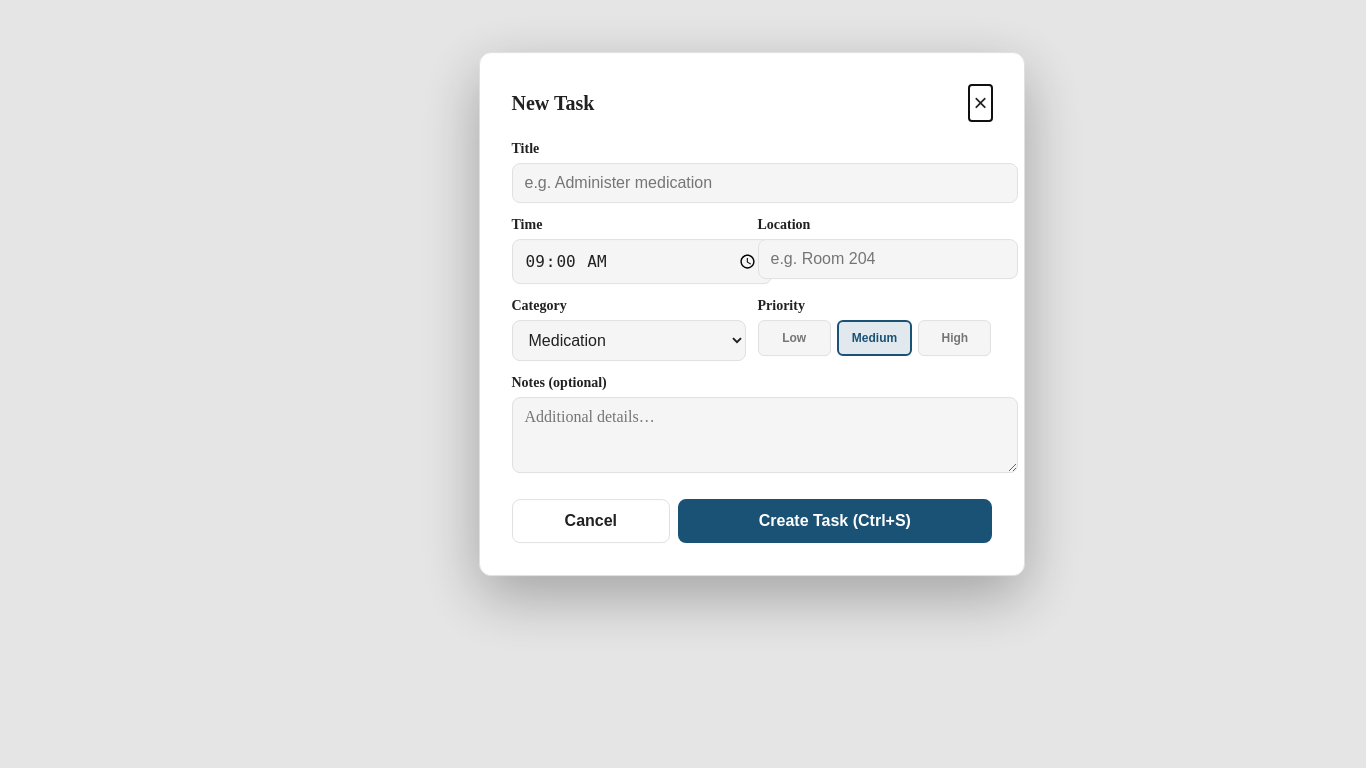
Test: NewTaskDialog › shows error when location is empty on submit
In the field labelled "Title": coordinates (764, 183) [512,163,1018,203], type "Test Task"
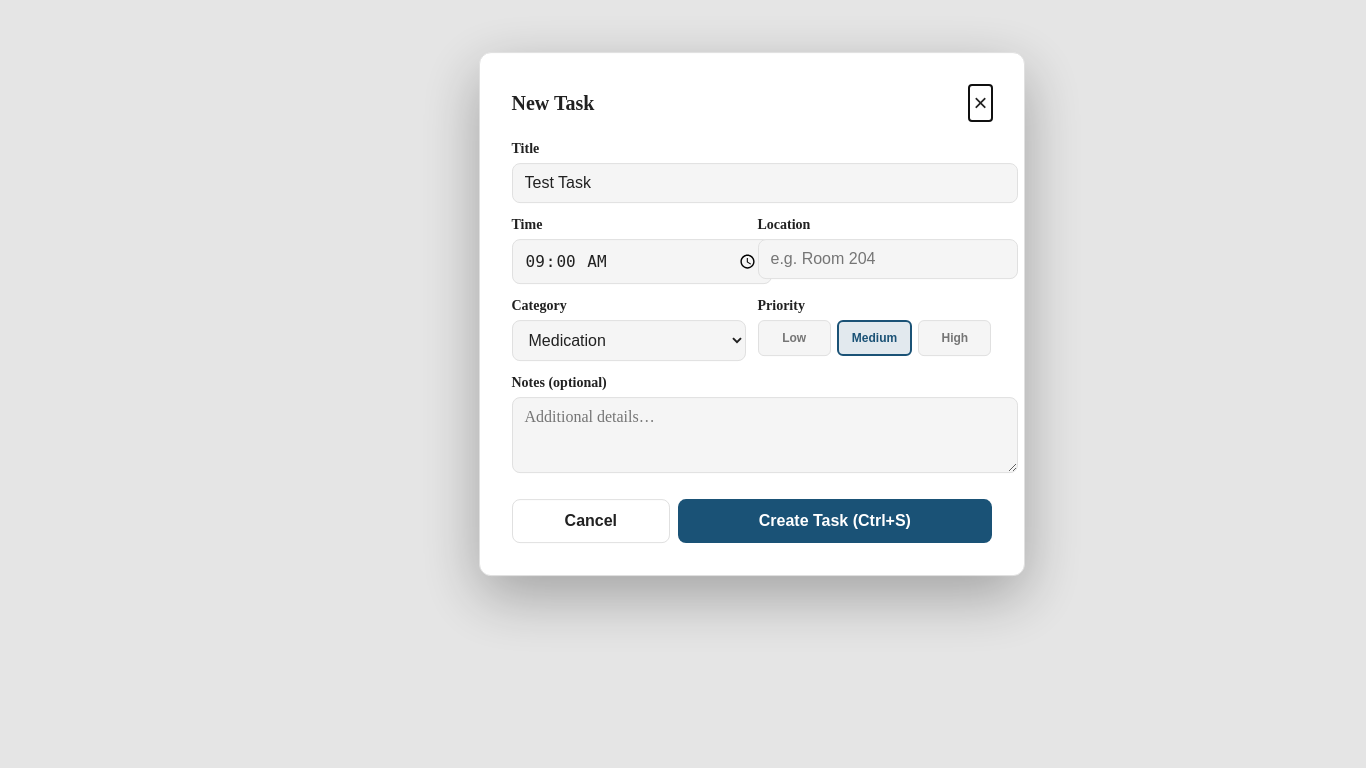
Click the button "Create Task (Ctrl+S)": coordinates (835, 521) [678,499,992,543]
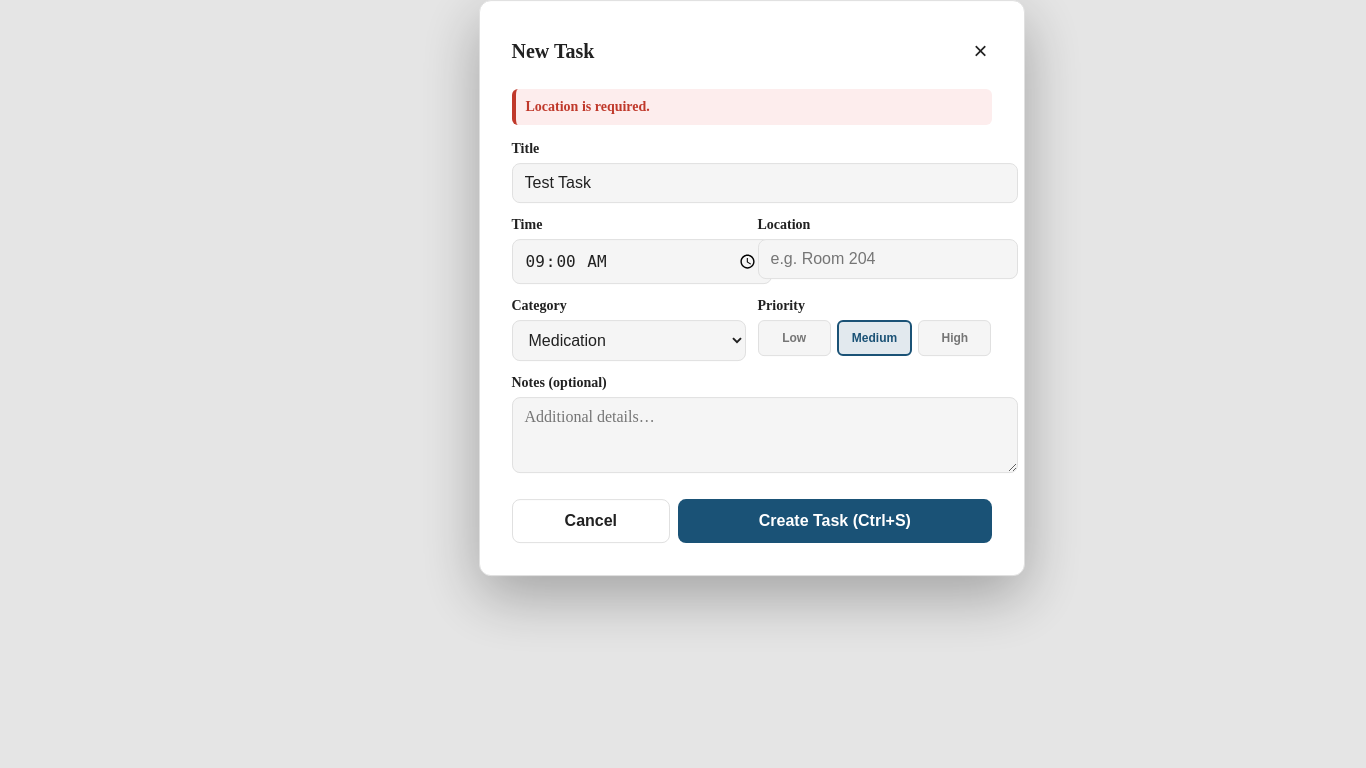
Expected: the message shows "Location is required", [526,99,650,114]
